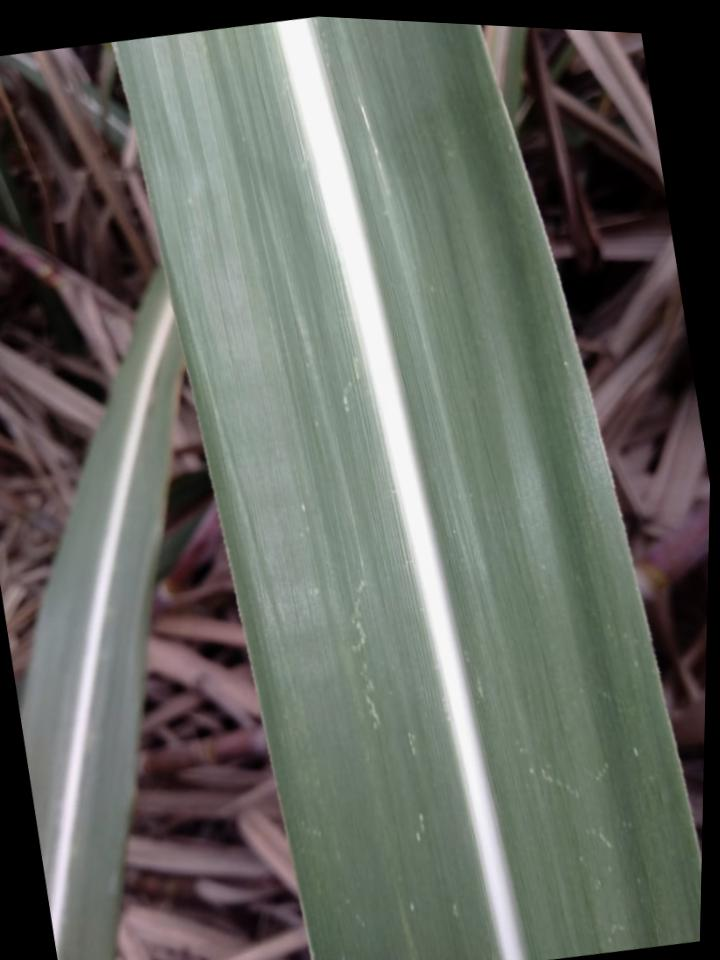Healthy: (108, 16, 702, 960), (23, 270, 186, 960)
